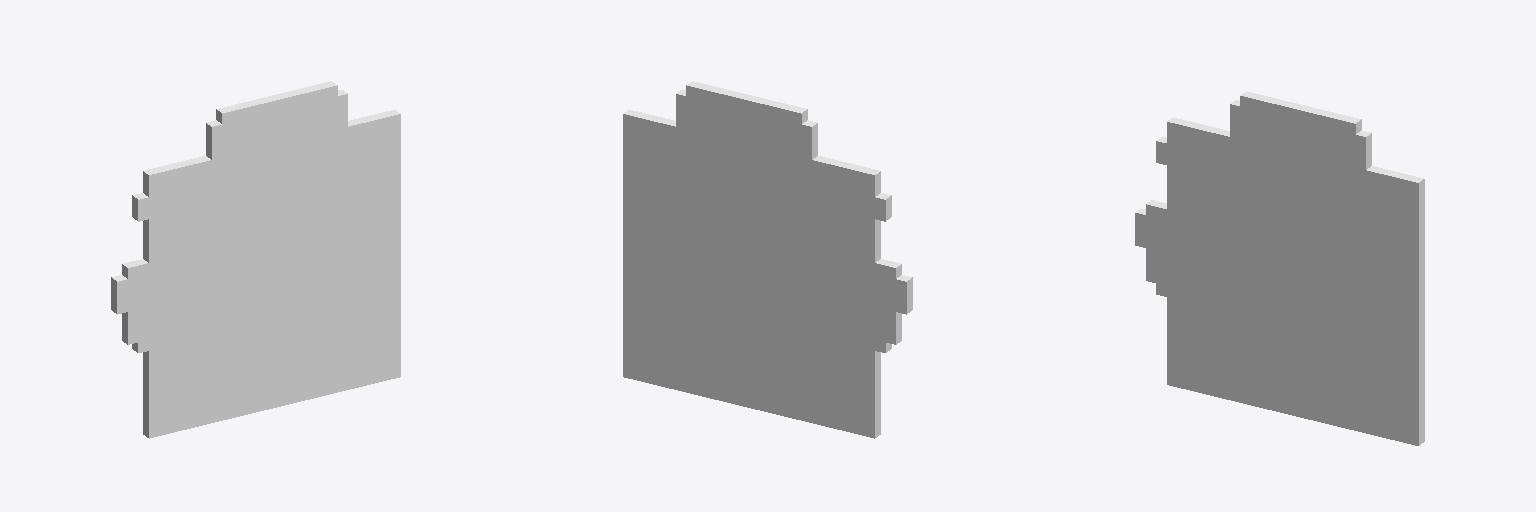
File: MoveRobot2D.obj
3 views of the same model, side by side, from view 1: azimuth 30°, elevation 25°; view 2: azimuth 150°, elevation 25°; view 3: azimuth 330°, elevation 25° (orthographic).
Parts seen in each view (by area): view 1: object 1; view 2: object 1; view 3: object 1.
Part boxes in pixels (left/top/right/bottom): object 1: left=111, top=81, right=400, bottom=438; object 1: left=623, top=81, right=912, bottom=438; object 1: left=1135, top=91, right=1424, bottom=445.
Bounding box in the file's own units: 2.7 × 2.8 × 0.1.